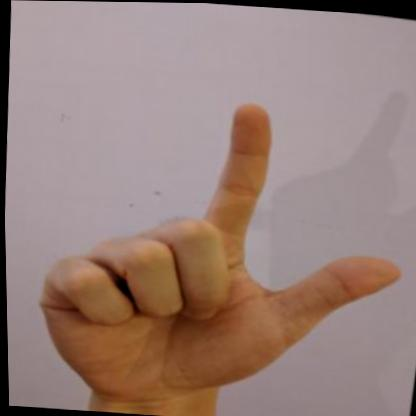L: (11, 58, 416, 416)
